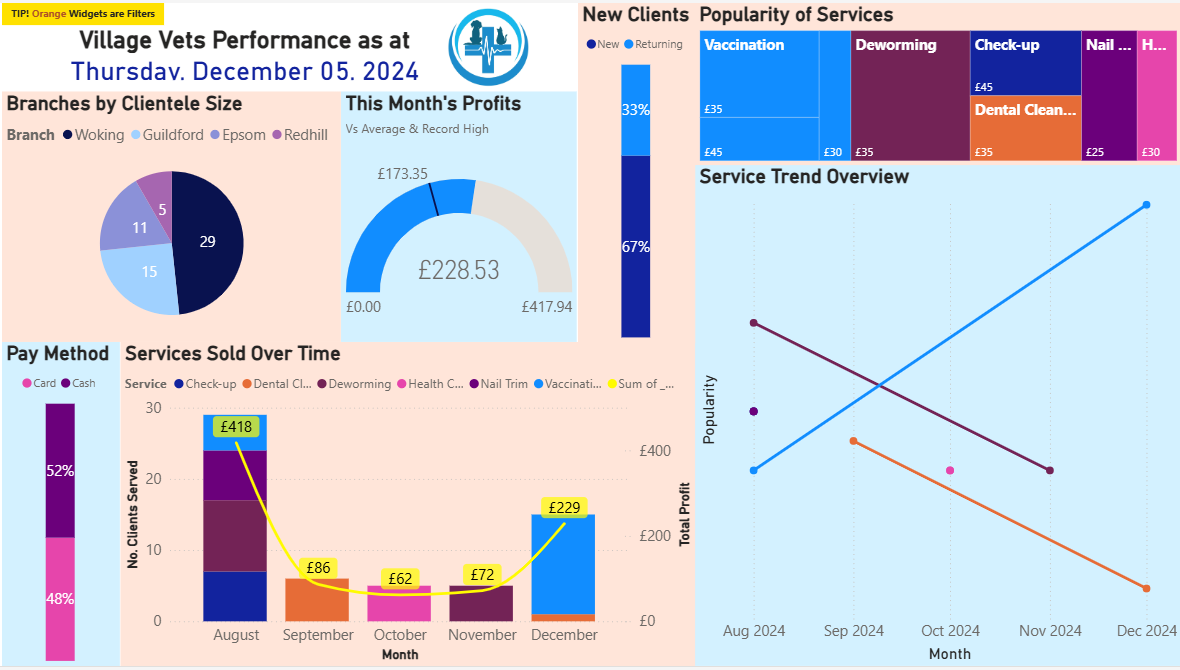

Layout of this report page (visuals, bound fields, positions):
{"tool":"powerbi","page":{"name":"Business Overview","canvas":[1280,720],"ordinal":0},"visuals":[{"type":"lineChart","title":"Service Trend Overview","fields":{"Series":["Sample.service"],"Y":["CountNonNull(Sample.service)"],"Category":["Sample.date.Variation.Date Hierarchy.Year","Sample.date.Variation.Date Hierarchy.Month"]},"box":[752,176,528,544],"z":0},{"type":"hundredPercentStackedColumnChart","title":"New Clients","fields":{"Y":["Count(Sample.client)"],"Series":["Sample._ReturningCustomer"]},"box":[624,0,128,368],"z":1000},{"type":"card","title":"Village Vets Performance as at","fields":{"Values":["Sample._LastDate"]},"box":[64,24,400,64],"z":2000},{"type":"image","box":[464,0,128,96],"z":3000},{"type":"gauge","title":"This Month''s Profits","fields":{"Y":["Sample._ProfitCurrentMonth"],"MaxValue":["Sample._MaxProfitMonth"],"TargetValue":["Sample._AvgProfitMonth"]},"box":[368,96,256,272],"z":4000},{"type":"pieChart","title":"Branches by Clientele Size","fields":{"Category":["Sample.branch"],"Y":["CountNonNull(Sample.branch)"]},"box":[0,96,368,272],"z":5000},{"type":"lineStackedColumnComboChart","title":"Services Sold Over Time ","fields":{"Category":["Sample.date.Variation.Date Hierarchy.Month"],"Y2":["Sum(Sample._profit)"],"Series":["Sample.service"],"Y":["CountNonNull(Sample.client)"]},"box":[128,368,624,352],"z":6000},{"type":"treemap","title":"Popularity of Services","fields":{"Group":["Sample.service"],"Values":["CountNonNull(Sample.service)"],"Details":["Sample.price"]},"box":[752,0,528,176],"z":7000},{"type":"hundredPercentStackedColumnChart","title":"Pay Method","fields":{"Y":["Count(Sample.client)"],"Series":["Sample.pay_method"]},"box":[0,368,128,352],"z":8000},{"type":"textbox","box":[0,0,176,24],"z":9000}]}

Visuals, with their boxes in screenshot pixels (x1, y1, x2, y2), scaled from the page's 1280x720 canvas onto the 1180x670 screenshot:
"Service Trend Overview" lineChart: detection(693, 164, 1179, 669)
"New Clients" hundredPercentStackedColumnChart: detection(575, 0, 693, 342)
"Village Vets Performance as at" card: detection(59, 22, 428, 82)
image: detection(428, 0, 546, 89)
"This Month''s Profits" gauge: detection(339, 89, 575, 342)
"Branches by Clientele Size" pieChart: detection(0, 89, 339, 342)
"Services Sold Over Time " lineStackedColumnComboChart: detection(118, 342, 693, 669)
"Popularity of Services" treemap: detection(693, 0, 1179, 164)
"Pay Method" hundredPercentStackedColumnChart: detection(0, 342, 118, 669)
textbox: detection(0, 0, 162, 22)
